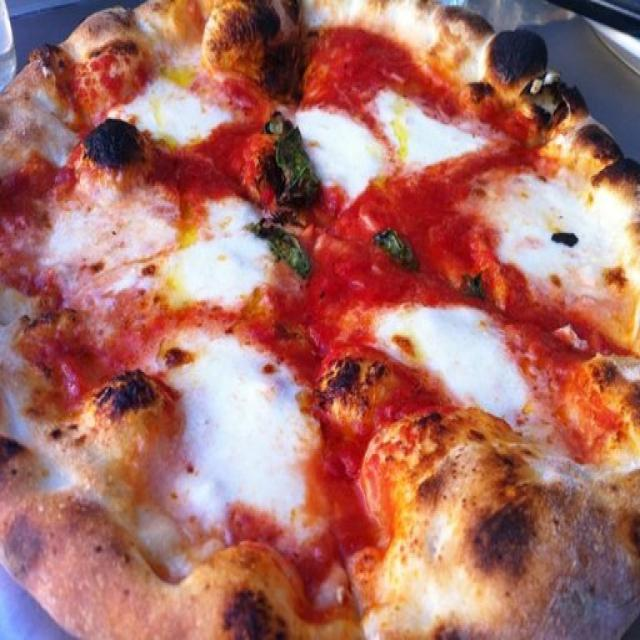Basil: (242, 192, 318, 273), (257, 115, 314, 206), (368, 218, 424, 273)
Cheese: (163, 325, 314, 550), (368, 285, 542, 433), (68, 180, 250, 318), (474, 150, 609, 308), (368, 85, 480, 180), (105, 71, 231, 150), (292, 110, 385, 191)
Pizza: (0, 0, 640, 640)
